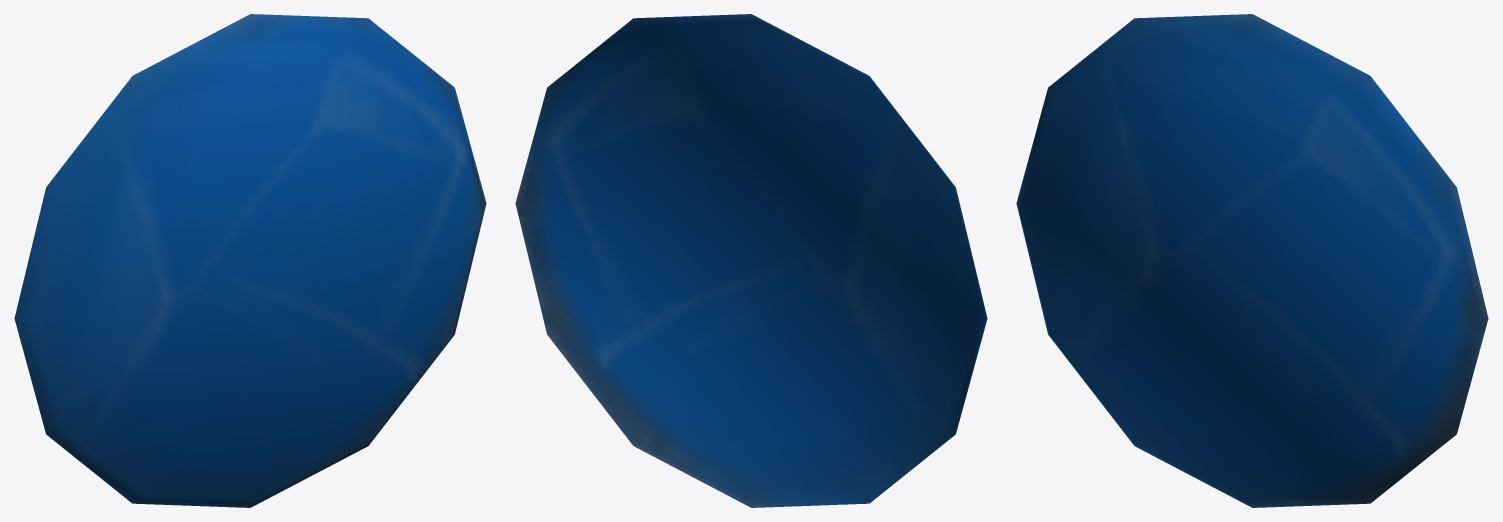
Rendered from battle_player_mana.DAE.
3 renders of one model, left to right at view 1: azimuth 30°, elevation 25°; view 2: azimuth 150°, elevation 25°; view 3: azimuth 330°, elevation 25°, orthographic.
Visible parts, largest first — view 1: Object023; view 2: Object023; view 3: Object023.
Part boxes in pixels (left/top/right/bottom): Object023: left=14, top=14, right=486, bottom=507; Object023: left=515, top=14, right=987, bottom=507; Object023: left=1016, top=14, right=1488, bottom=507.
Size of the model in its own units: 91.71 by 91.71 by 2.57.
Materials: 1 (1 with a texture image).
